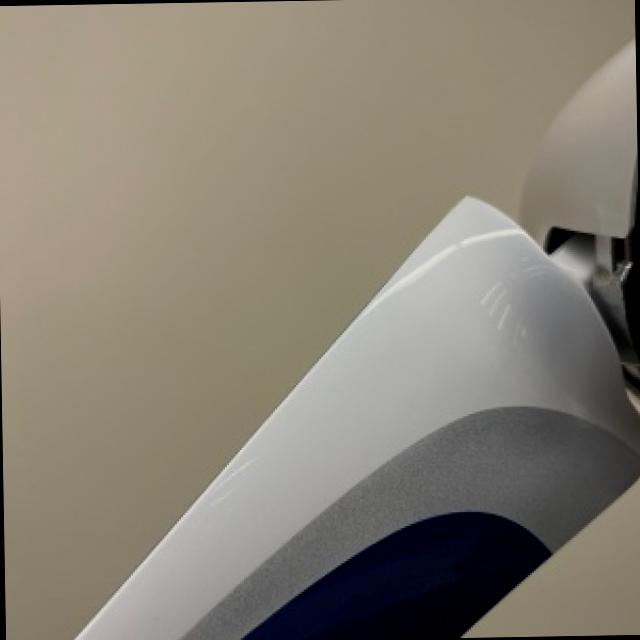healthy: (78, 39, 640, 640), (473, 545, 640, 635)
